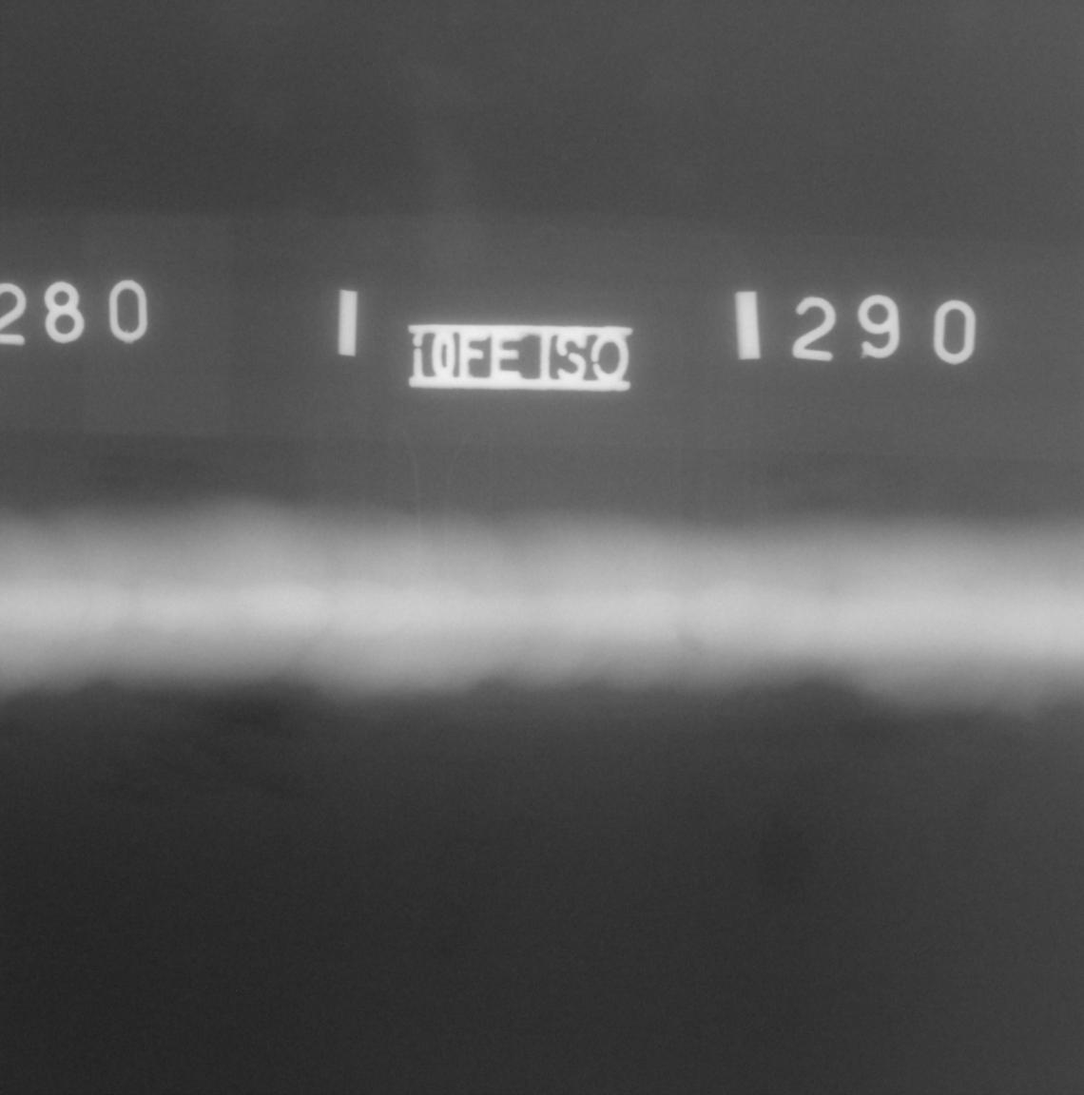Inclusion: (702, 600, 725, 614), (183, 605, 212, 613), (694, 638, 719, 644), (786, 586, 800, 593)
